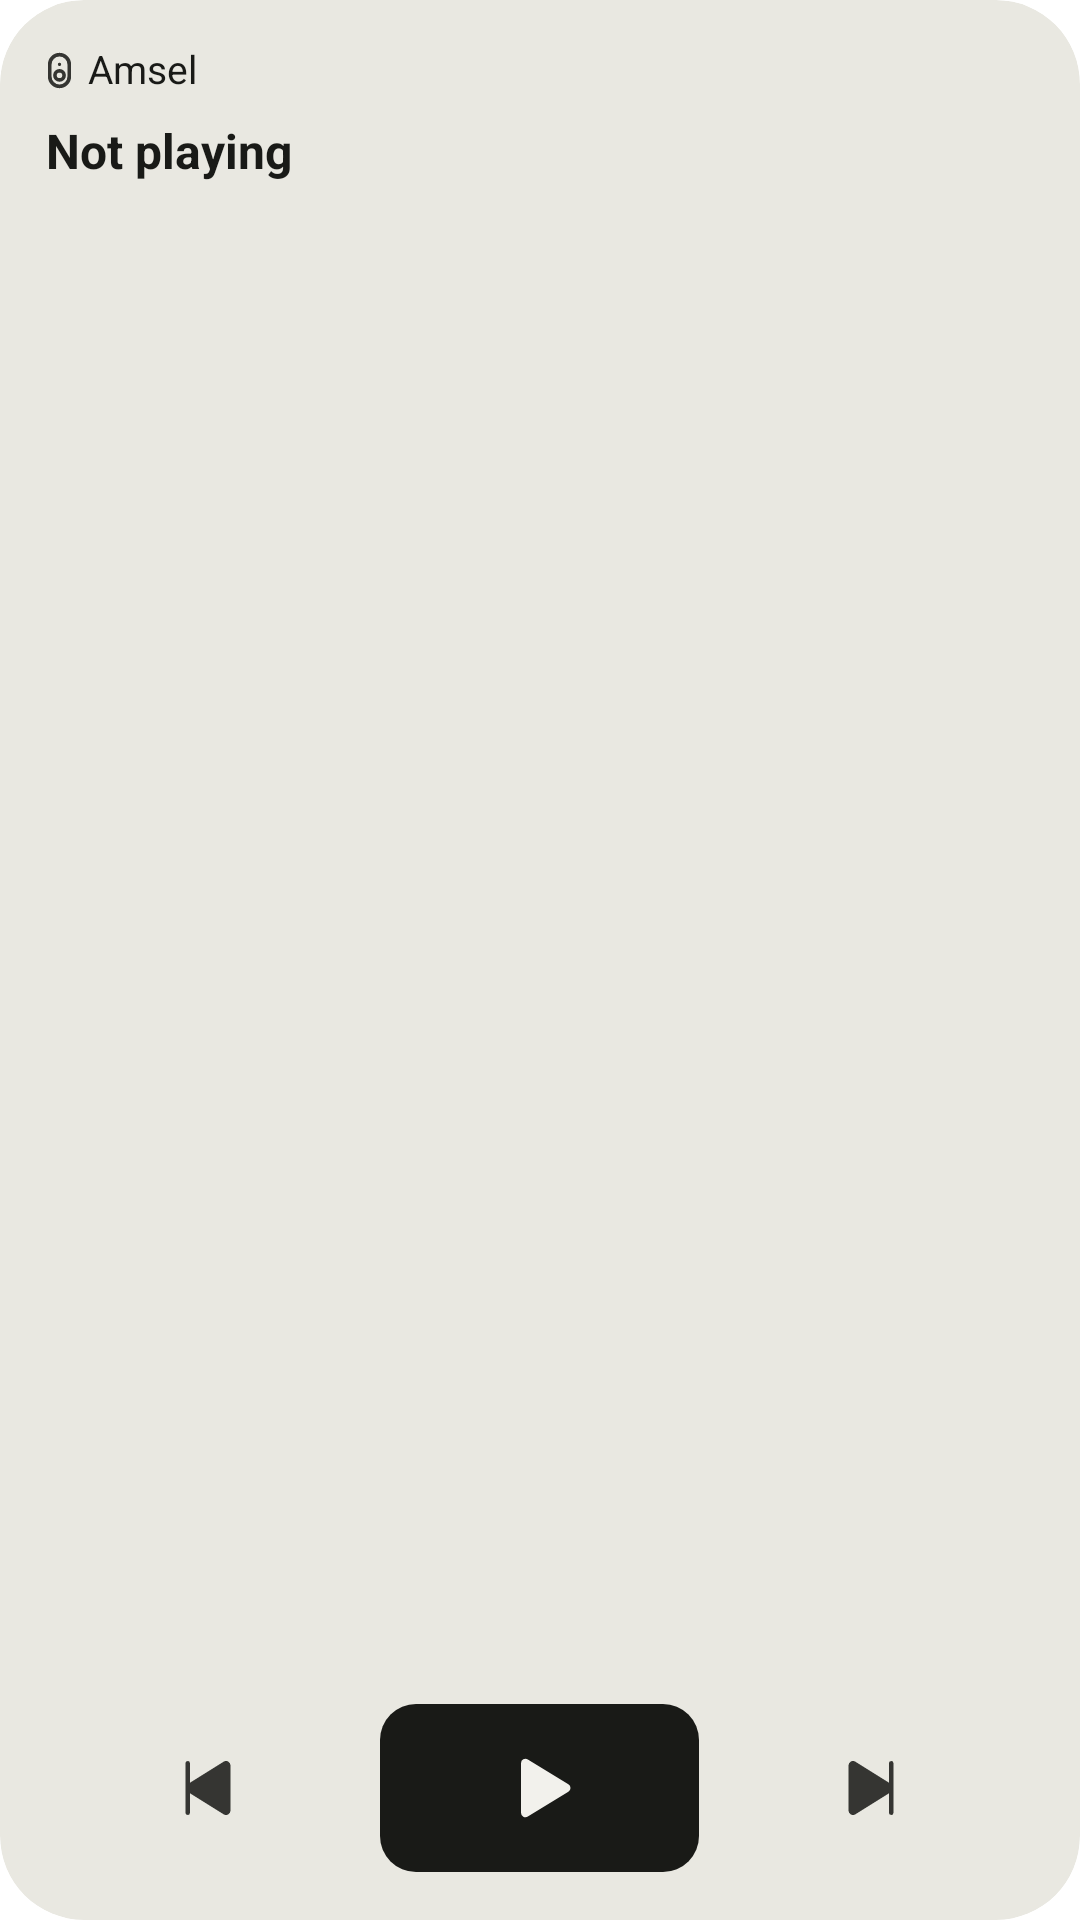

Named icons in this screenshot (1080px×1920px) and their bounding boxes, (left=x1, top=y1, right=x2, bottom=y2):
play: (left=521, top=1758, right=571, bottom=1818)
skip next: (left=848, top=1761, right=894, bottom=1815)
skip previous: (left=185, top=1761, right=231, bottom=1815)
